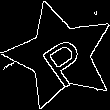P_NW: (29, 24, 91, 87)
